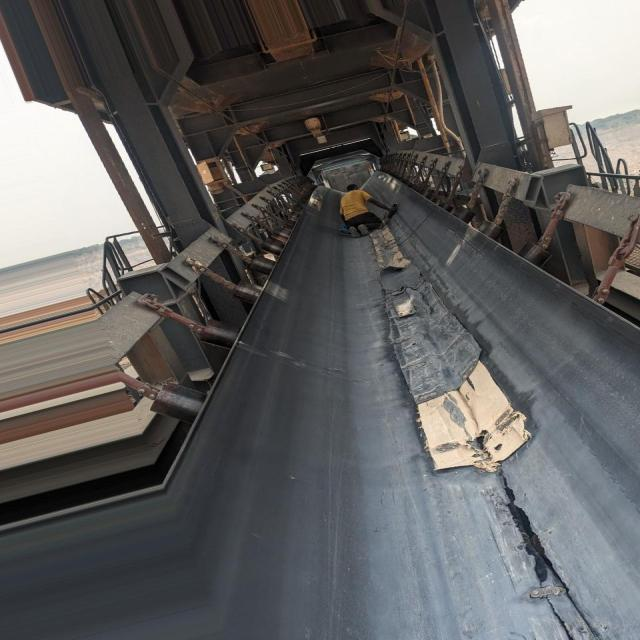Human: (340, 184, 396, 237)
Roller: (200, 211, 302, 343), (426, 193, 553, 266), (150, 384, 210, 426)
Tear: (502, 476, 546, 584)
patch work: (382, 270, 533, 468)
